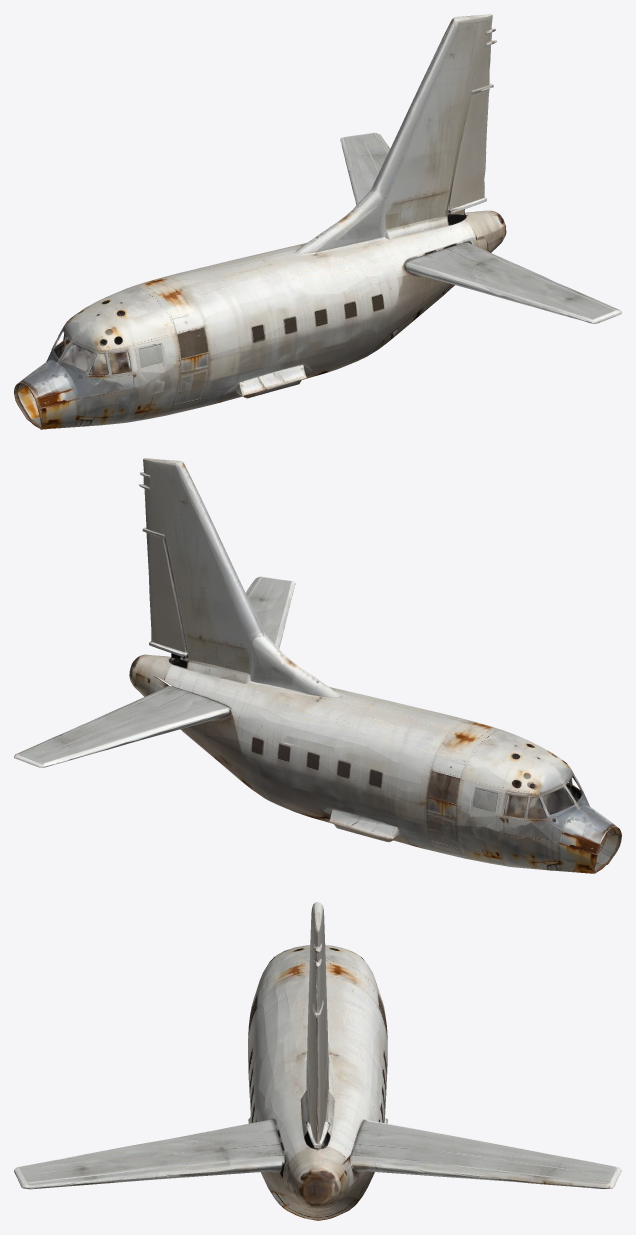
File: canyon-hero.glb
3 views of the same model, one above another, from view 1: azimuth 30°, elevation 25°; view 2: azimuth 150°, elevation 25°; view 3: azimuth 270°, elevation 25° (orthographic). The views are drawn at different scales.
Size of the model in its own units: 1.9 by 1.22 by 1.75.
1 material, 1 textured.
